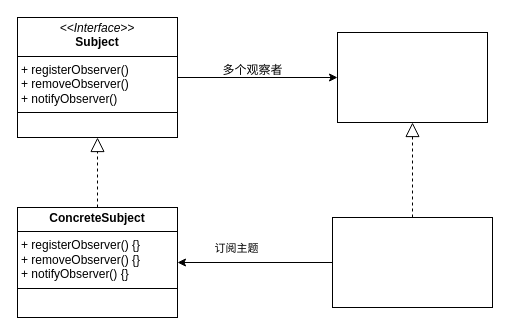
Some shapes in this 510 by 335 pixel diagram are drawn without their labels. The shapes that lost their labels are listed below. From the top down, each one's centre as x and y in pixels, then its label:
At point (412, 77): "<<Interface>> Observer + update()".
At point (412, 262): "ConcreteObserver + update() ....".
